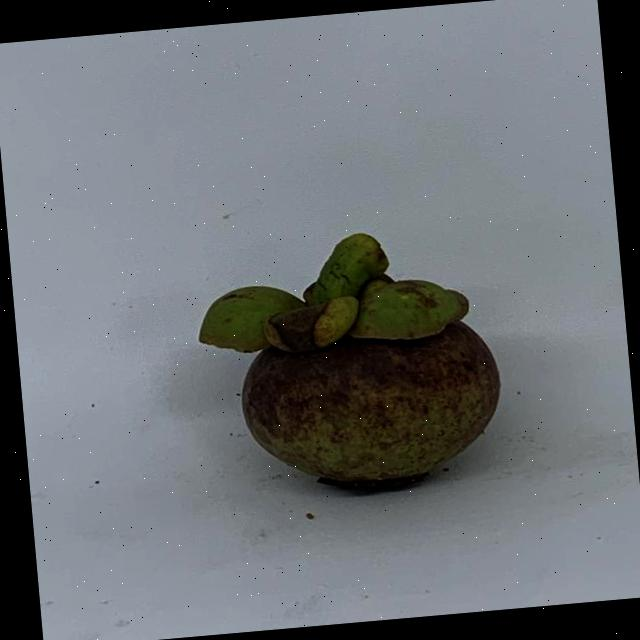mangosteen: (197, 198, 524, 515)
